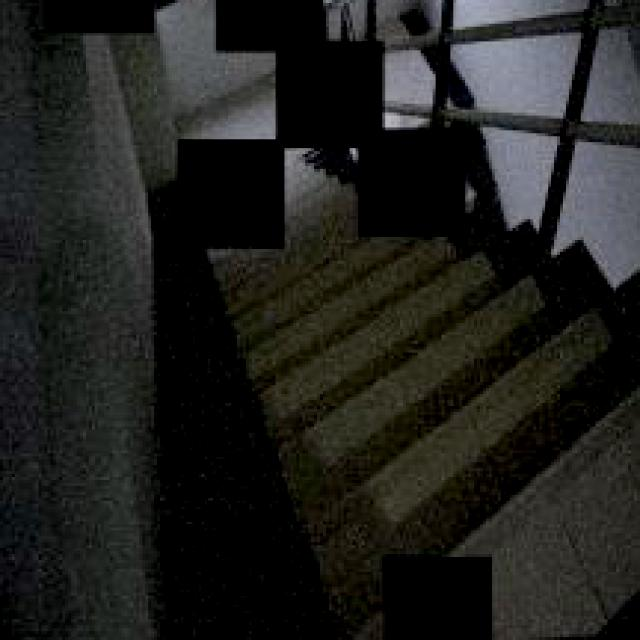downstair: (315, 232, 640, 546)
